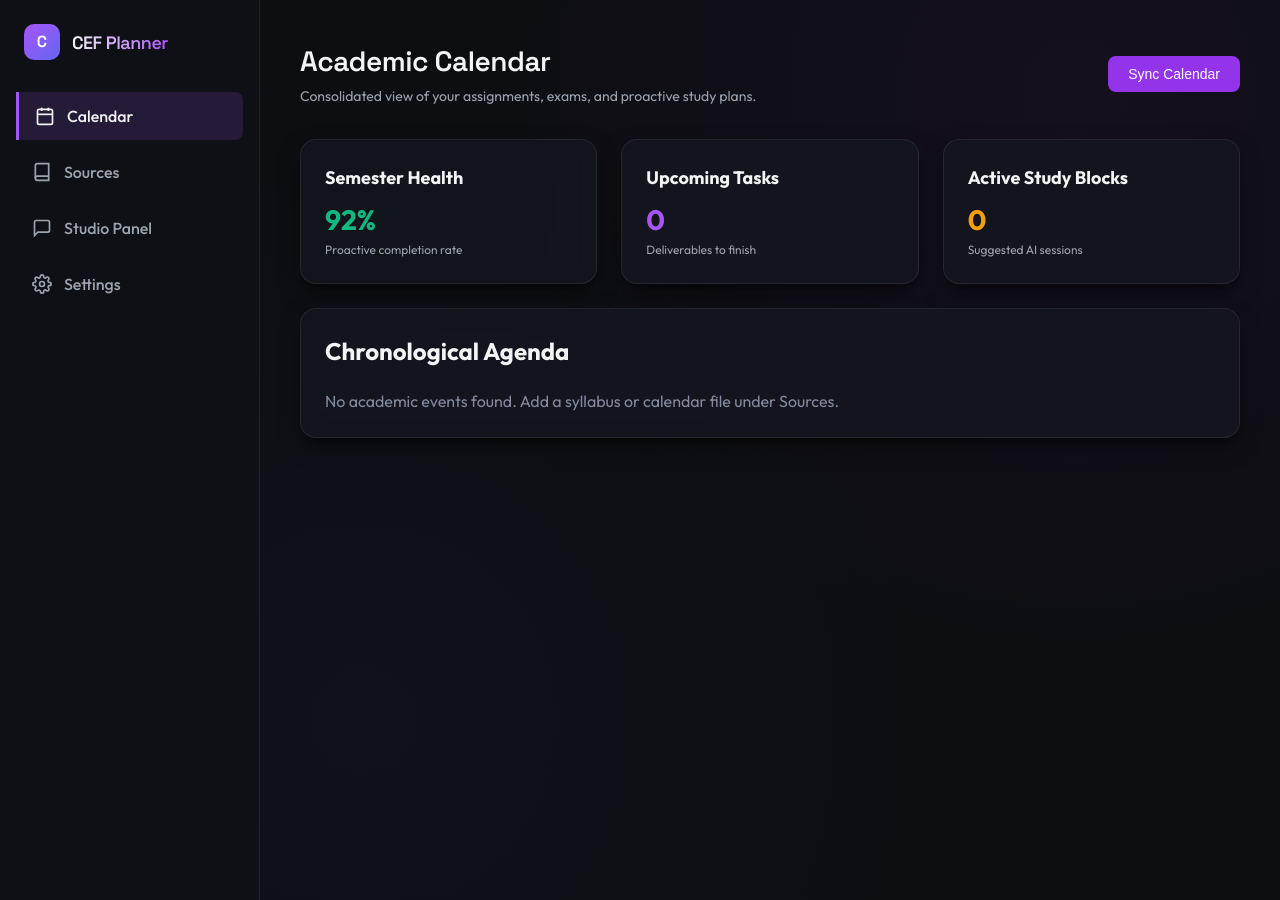
Test: Studio Panel — default rendered state › has no axe violations
The image size is (1280, 900).
Expected: the heading "Academic Calendar" is shown, [300,43,551,79]
Click the button "Studio Panel": (130, 228) [16,204,243,252]
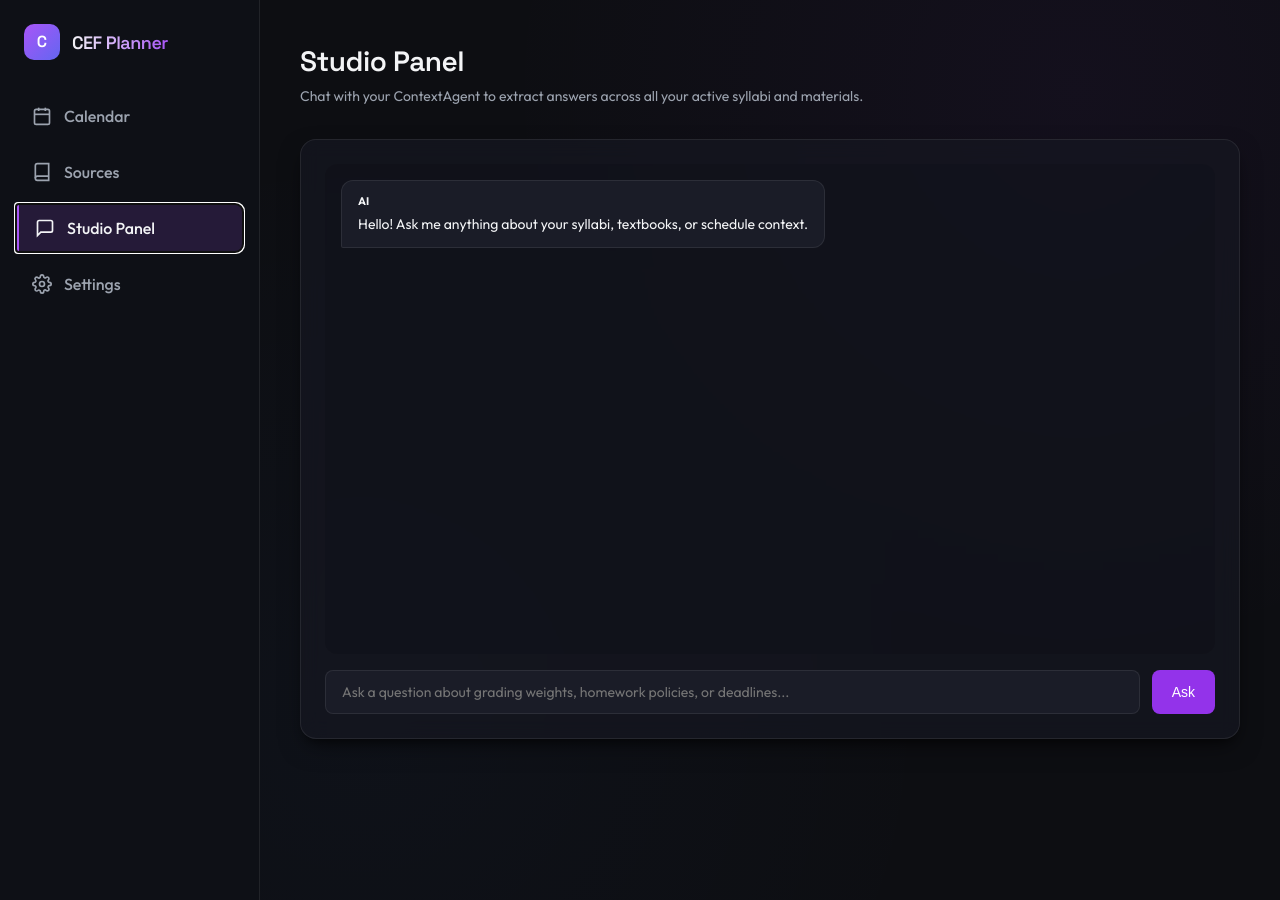
Expected: the text "Ask me anything about your syllabi" is shown, [358,214,808,232]
